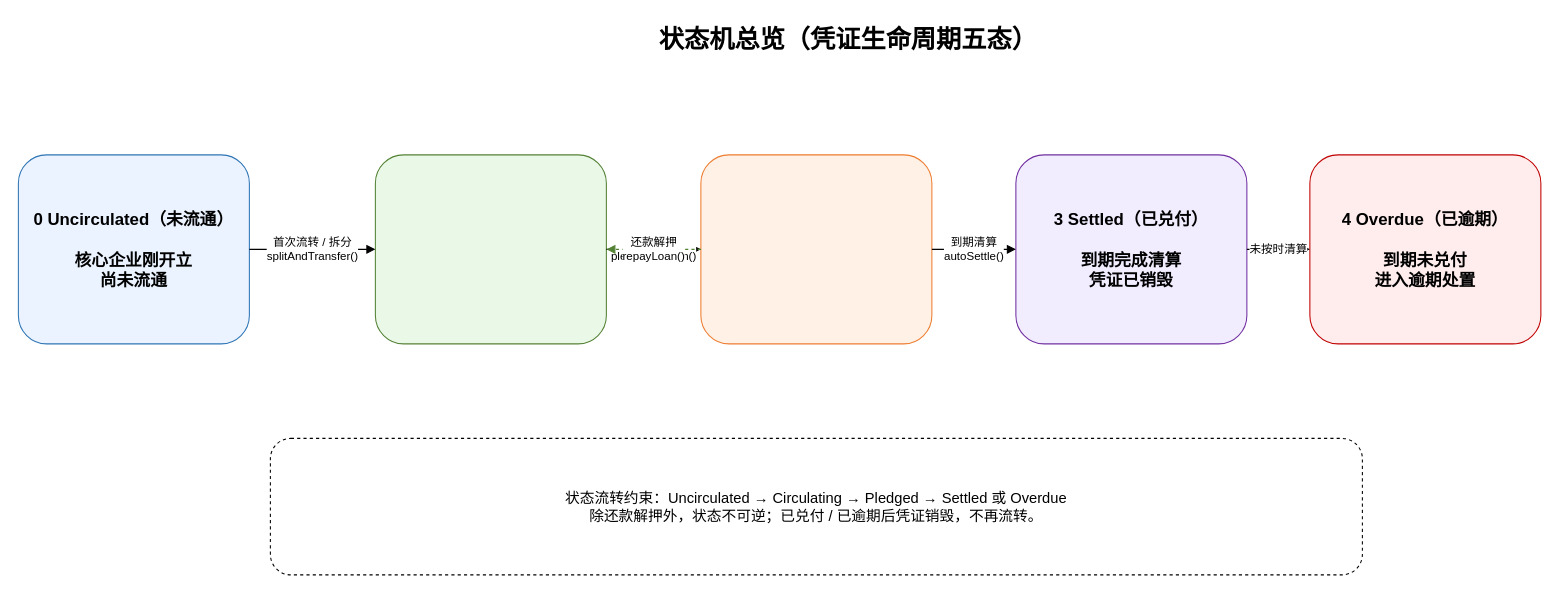
This 1559x593 diagram has some shape labels left out. Each missing label, with the centre of its shape:
1 Circulating（流通中） 供应商间流转 可拆分 / 转让 / 质押: the point at 490,249
2 Pledged（已质押） 银行托管融资中 不可再拆分 / 转让: the point at 816,249
